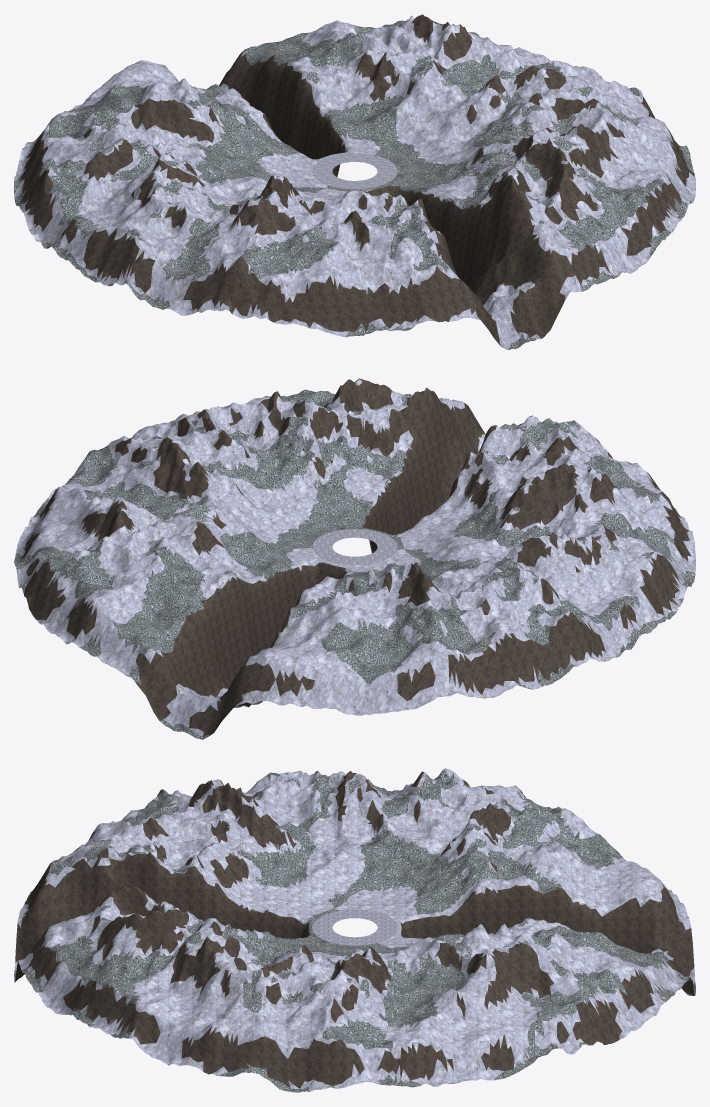
The model's file is backdrop_near_c36_winter.glb.
3 views of the same model, one above another, from view 1: azimuth 30°, elevation 25°; view 2: azimuth 150°, elevation 25°; view 3: azimuth 270°, elevation 25° (orthographic).
Parts seen in each view (by area): view 1: near_land_S, near_land_W, near_land_E, near_land_N; view 2: near_land_N, near_land_W, near_land_E, near_land_S; view 3: near_land_E, near_land_S, near_land_N, near_land_W.
Part boxes in pixels (left/top/right/bottom): near_land_S: left=266, top=128, right=683, bottom=349; near_land_W: left=14, top=98, right=347, bottom=318; near_land_E: left=357, top=14, right=695, bottom=216; near_land_N: left=25, top=15, right=418, bottom=176; near_land_N: left=26, top=517, right=443, bottom=739; near_land_W: left=353, top=463, right=695, bottom=698; near_land_E: left=14, top=391, right=355, bottom=597; near_land_S: left=281, top=378, right=678, bottom=553; near_land_E: left=115, top=921, right=596, bottom=1092; near_land_S: left=14, top=806, right=329, bottom=1037; near_land_N: left=379, top=811, right=695, bottom=1044; near_land_W: left=129, top=768, right=571, bottom=916.
Bounding box in the file's own units: 576 × 168 × 576.
3 materials, 3 textured.
